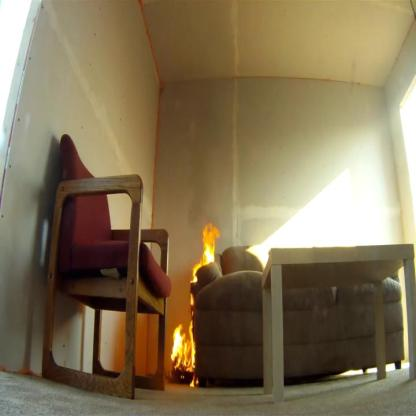fire: (168, 292, 199, 388), (187, 219, 220, 288)
